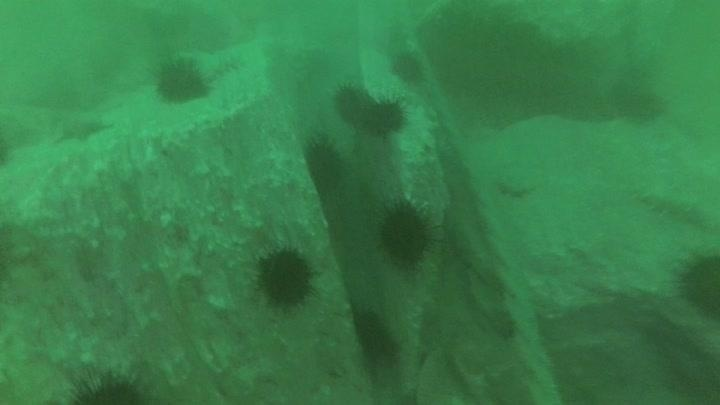echinus: (374, 197, 436, 269), (251, 244, 318, 310), (60, 363, 154, 405), (348, 303, 402, 368), (673, 248, 720, 320), (151, 55, 212, 106), (301, 136, 348, 196), (359, 95, 409, 138), (330, 80, 375, 126), (388, 49, 427, 86)
holothurian: (633, 182, 715, 230), (490, 168, 538, 199)
starfish: (53, 112, 113, 145)
